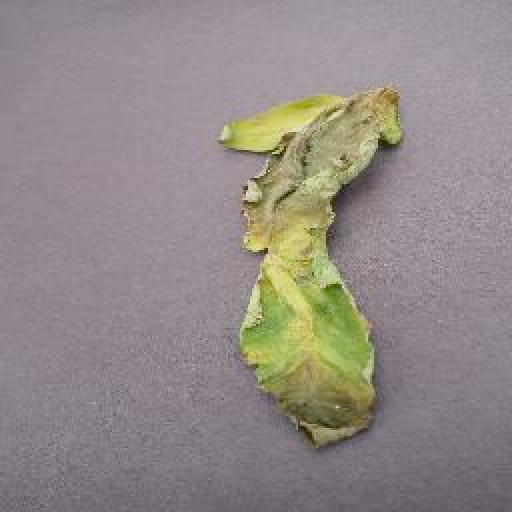disease_tomato: (216, 84, 402, 452)
